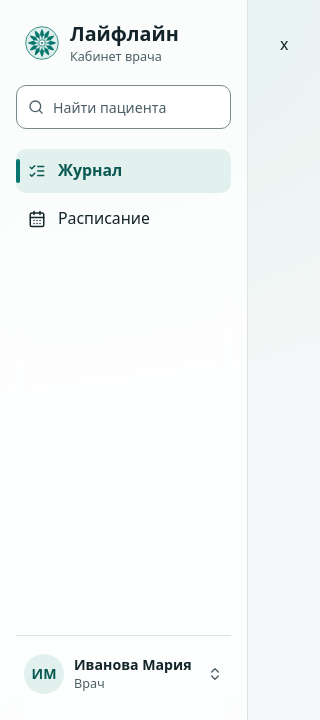
StaffShell sidebar › should gather the language, the theme and «Выйти» into one menu with the current choices ticked
Click the button with aria-label "Меню профиля": (124, 674) top-left (16, 648), bottom-right (231, 700)
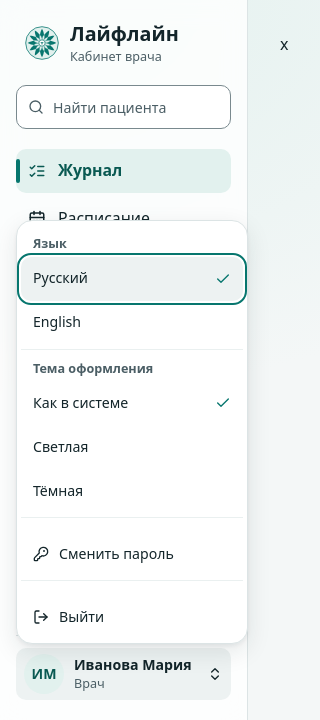
expect the menu item "Выйти" is shown: met, box top-left (21, 595), bottom-right (243, 639)
